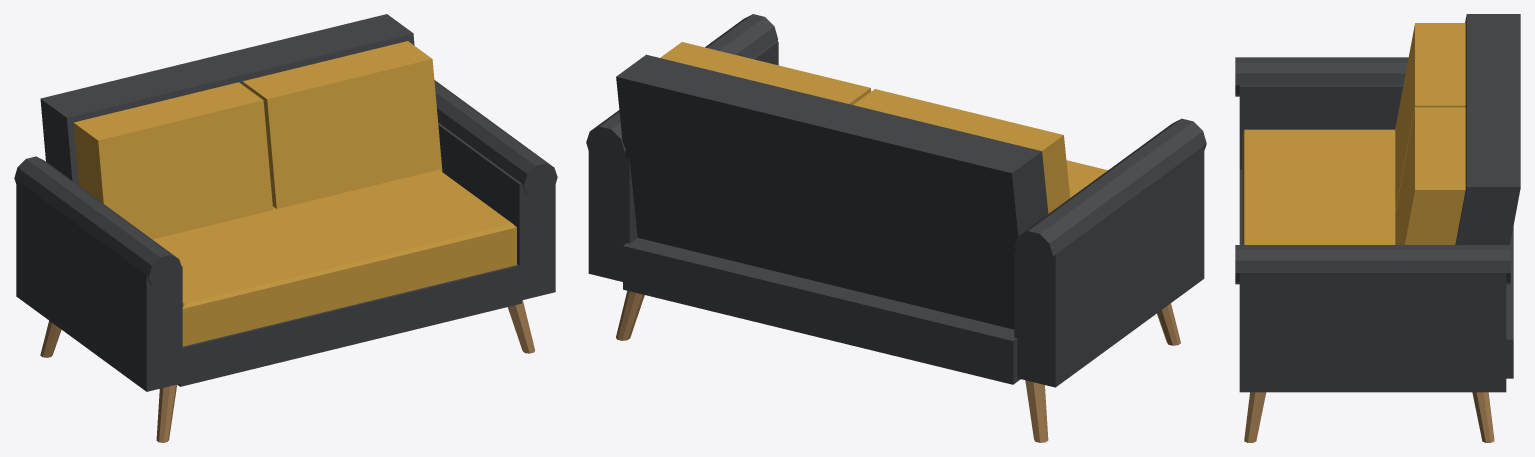
File: FN_Sofa_Loveseat.glb
3 renders of one model, left to right at view 1: azimuth 30°, elevation 25°; view 2: azimuth 150°, elevation 25°; view 3: azimuth 270°, elevation 25°, orthographic. The views are drawn at different scales.
Visible parts, largest first — view 1: FN_Sofa_Loveseat; view 2: FN_Sofa_Loveseat; view 3: FN_Sofa_Loveseat.
Boxes of the visible parts, x1,y1,x2,y2 form: FN_Sofa_Loveseat: (14,14,557,442); FN_Sofa_Loveseat: (586,14,1206,442); FN_Sofa_Loveseat: (1235,14,1520,442).
Size of the model in its own units: 1.34 by 0.76 by 0.792.
Materials: 1 (1 with a texture image).
